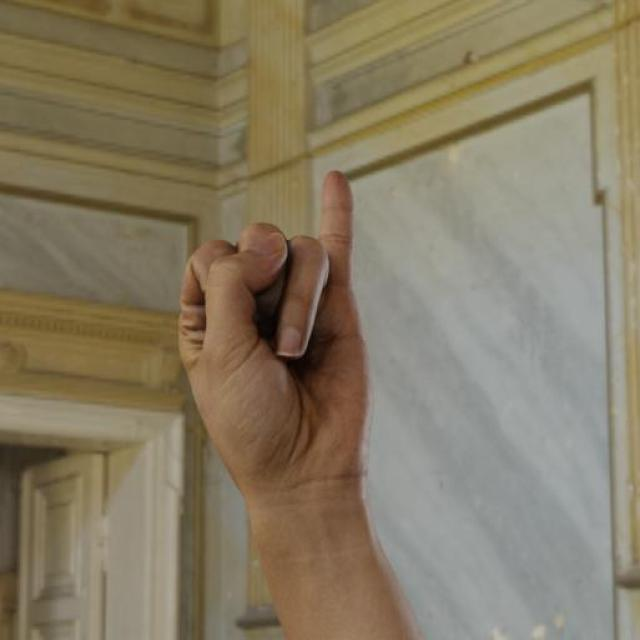I: (171, 163, 373, 488)
